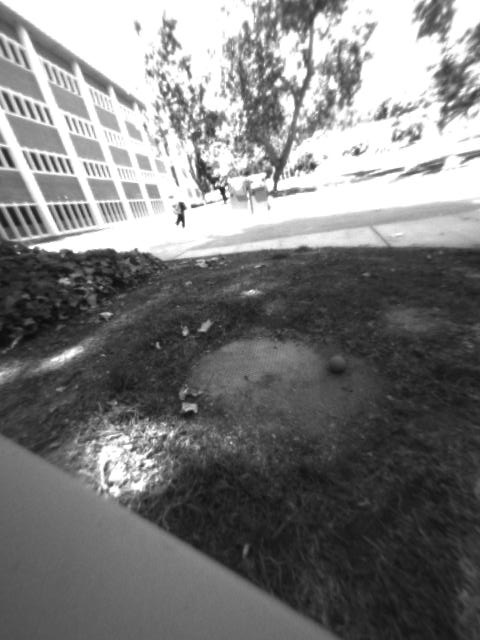dogtoy: (321, 340, 358, 380)
